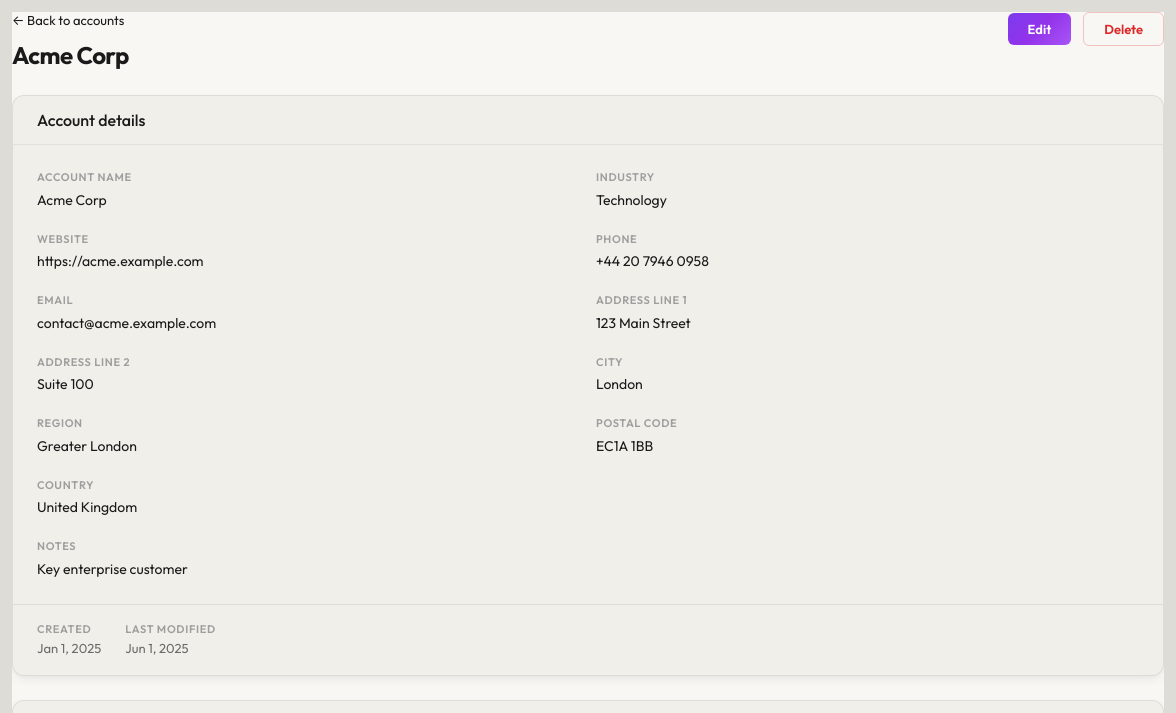
Test case: AccountDetailPage › pre-fills the edit form with current account values
The image size is (1176, 713).
Click the button "Edit" at (1039, 29), box [1008,13,1071,45]
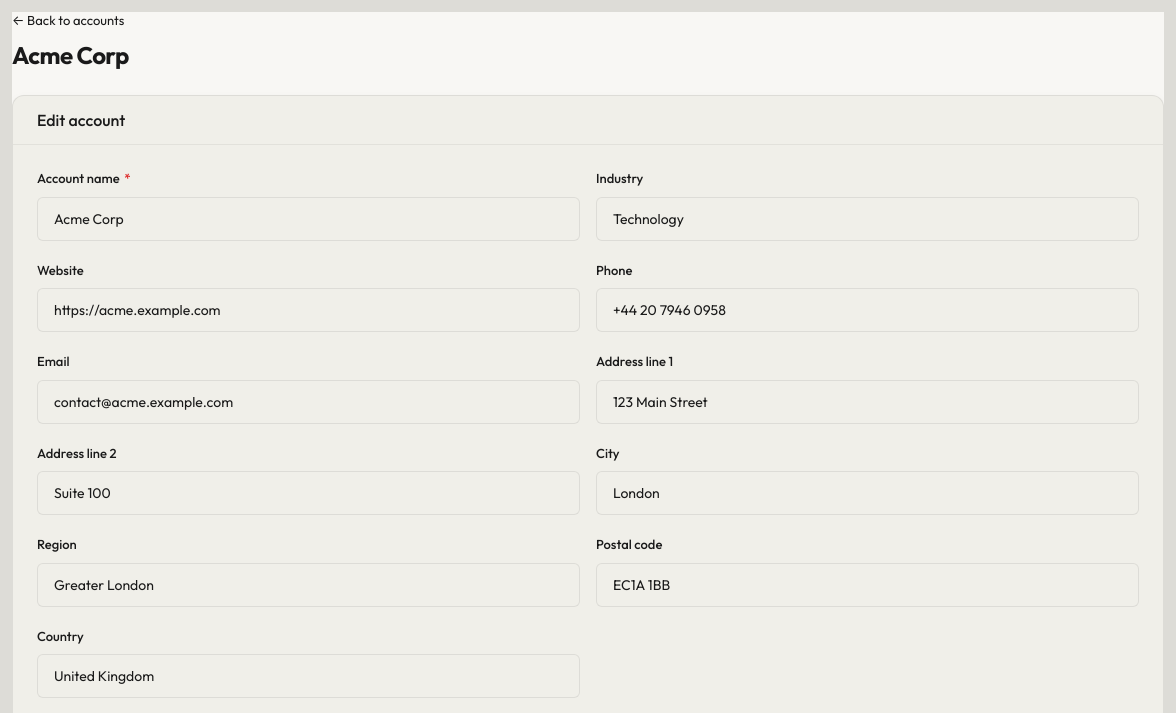
Result: the field labelled "Account name *" holds "Acme Corp" at [37,197,580,241]
Result: the field labelled "Industry" holds "Technology" at [596,197,1139,241]
Result: the field labelled "Email" holds "contact@acme.example.com" at [37,380,580,424]
